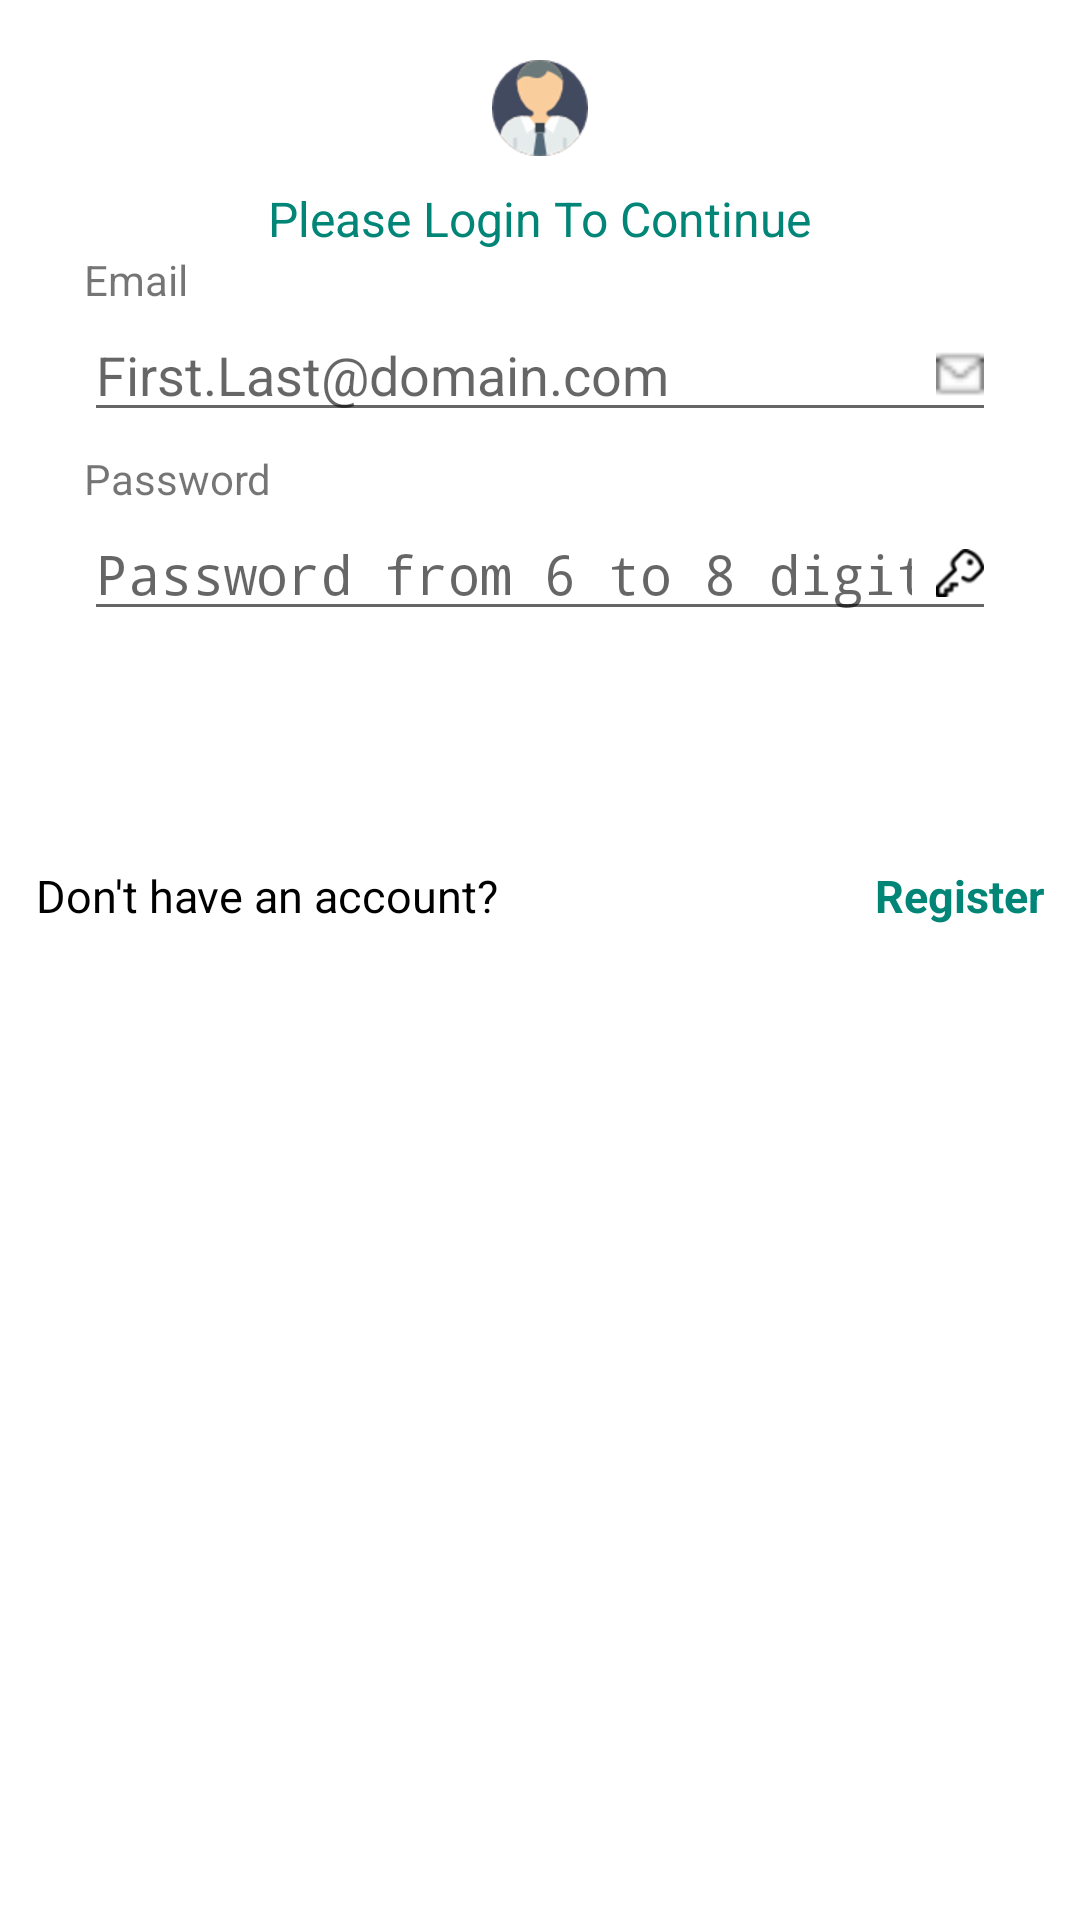

Named icons in this screenshot (1080×1920) and their bounding boxes, (x1, y1, x2, y2):
user: (492, 60, 588, 156)
